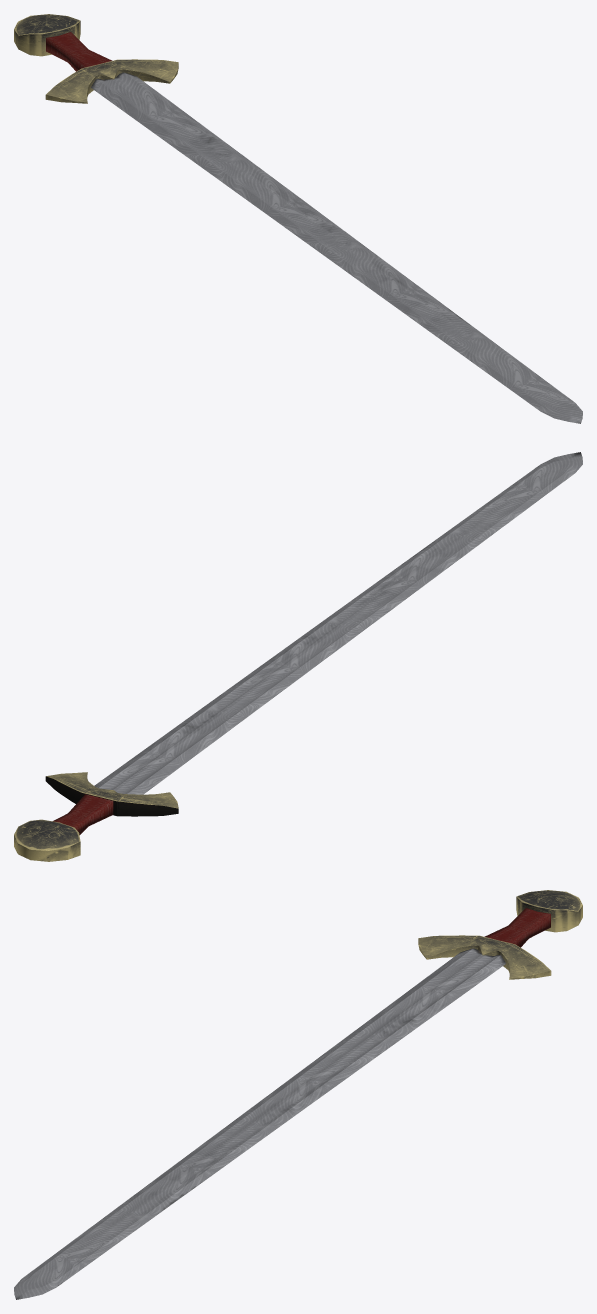
The model's file is tyr_sword.glb.
3 views of the same model, one above another, from view 1: azimuth 30°, elevation 25°; view 2: azimuth 150°, elevation 25°; view 3: azimuth 330°, elevation 25° (orthographic).
Visible parts, largest first — view 1: Object_3; view 2: Object_3; view 3: Object_3.
Part boxes in pixels (x1,y1,x2,y2): Object_3: (14,14,582,423); Object_3: (14,452,582,861); Object_3: (14,890,582,1299).
Bounding box in the file's own units: 7.89 × 1.49 × 56.57.
1 material, 1 textured.
